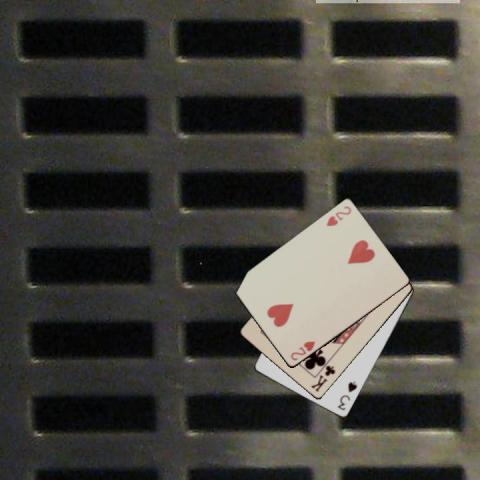2h: (323, 203, 353, 228), (287, 338, 316, 363)
3s: (334, 379, 359, 412)
Kc: (308, 363, 337, 393)
